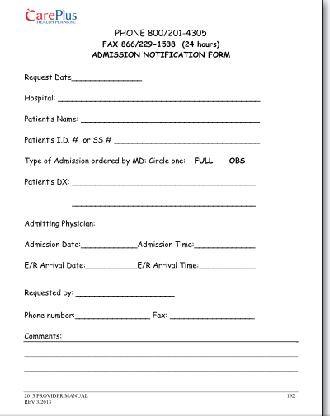textline: (18, 347, 299, 361), (19, 366, 301, 377), (69, 200, 258, 210), (111, 138, 268, 150), (77, 117, 261, 127), (70, 180, 260, 189), (95, 222, 255, 232), (57, 99, 266, 106), (73, 287, 178, 300), (63, 338, 301, 343), (170, 313, 255, 325), (193, 242, 263, 254), (74, 313, 152, 323), (70, 76, 145, 86), (85, 262, 139, 272), (199, 264, 259, 273), (79, 243, 139, 250)
